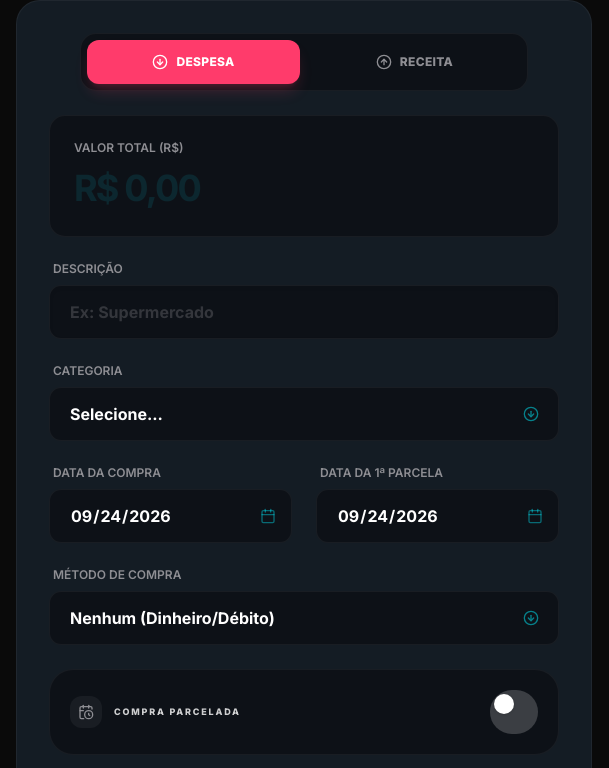
Test: TransactionForm - Business Rules for Dates › Scenario 2: Automatic Sync for simple expenses
# Change purchase date
Type "2026-02-14" into the date field labelled "DATA DA COMPRA" at (170, 516), box [49,489,292,543]
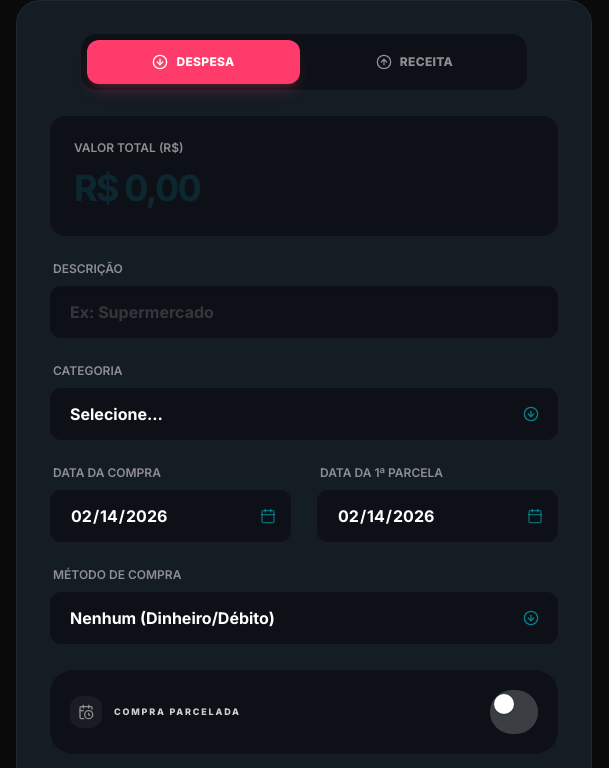
Expected: the date field labelled "DATA DA 1ª PARCELA" holds "2026-02-14", [316,489,559,543]
